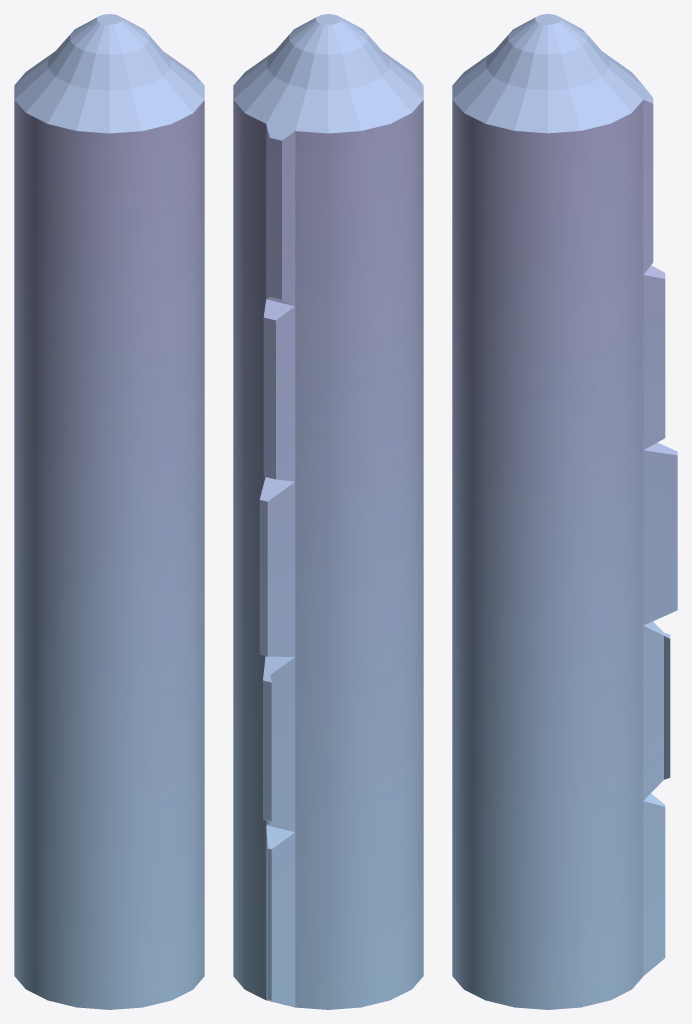
The model's file is pillar.fbx.
The picture shows the model from 3 angles, left to right: view 1: azimuth 30°, elevation 25°; view 2: azimuth 150°, elevation 25°; view 3: azimuth 270°, elevation 25°; orthographic projection.
Visible parts, largest first — view 1: Cylinder010; view 2: Cylinder010; view 3: Cylinder010.
Part boxes in pixels (<box>): Cylinder010: <box>14,14,204,1009</box>; Cylinder010: <box>233,14,423,1009</box>; Cylinder010: <box>452,14,677,1009</box>.
Size of the model in its own units: 1.77 by 9.62 by 2.07.
